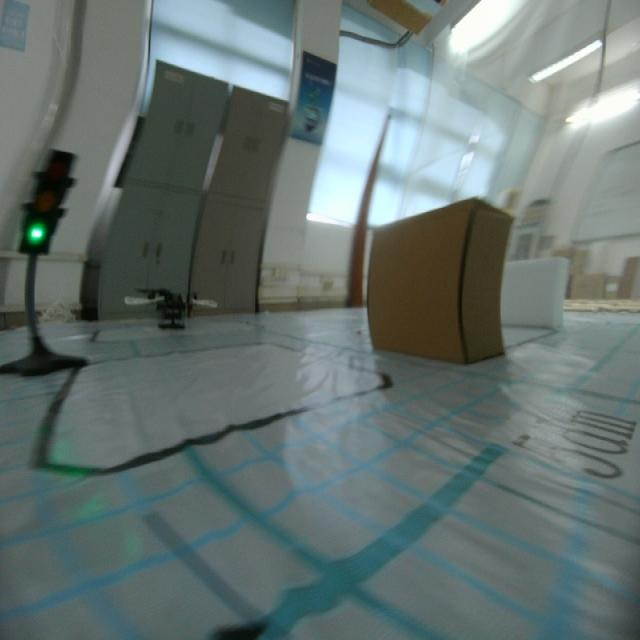green: (18, 134, 78, 258)
